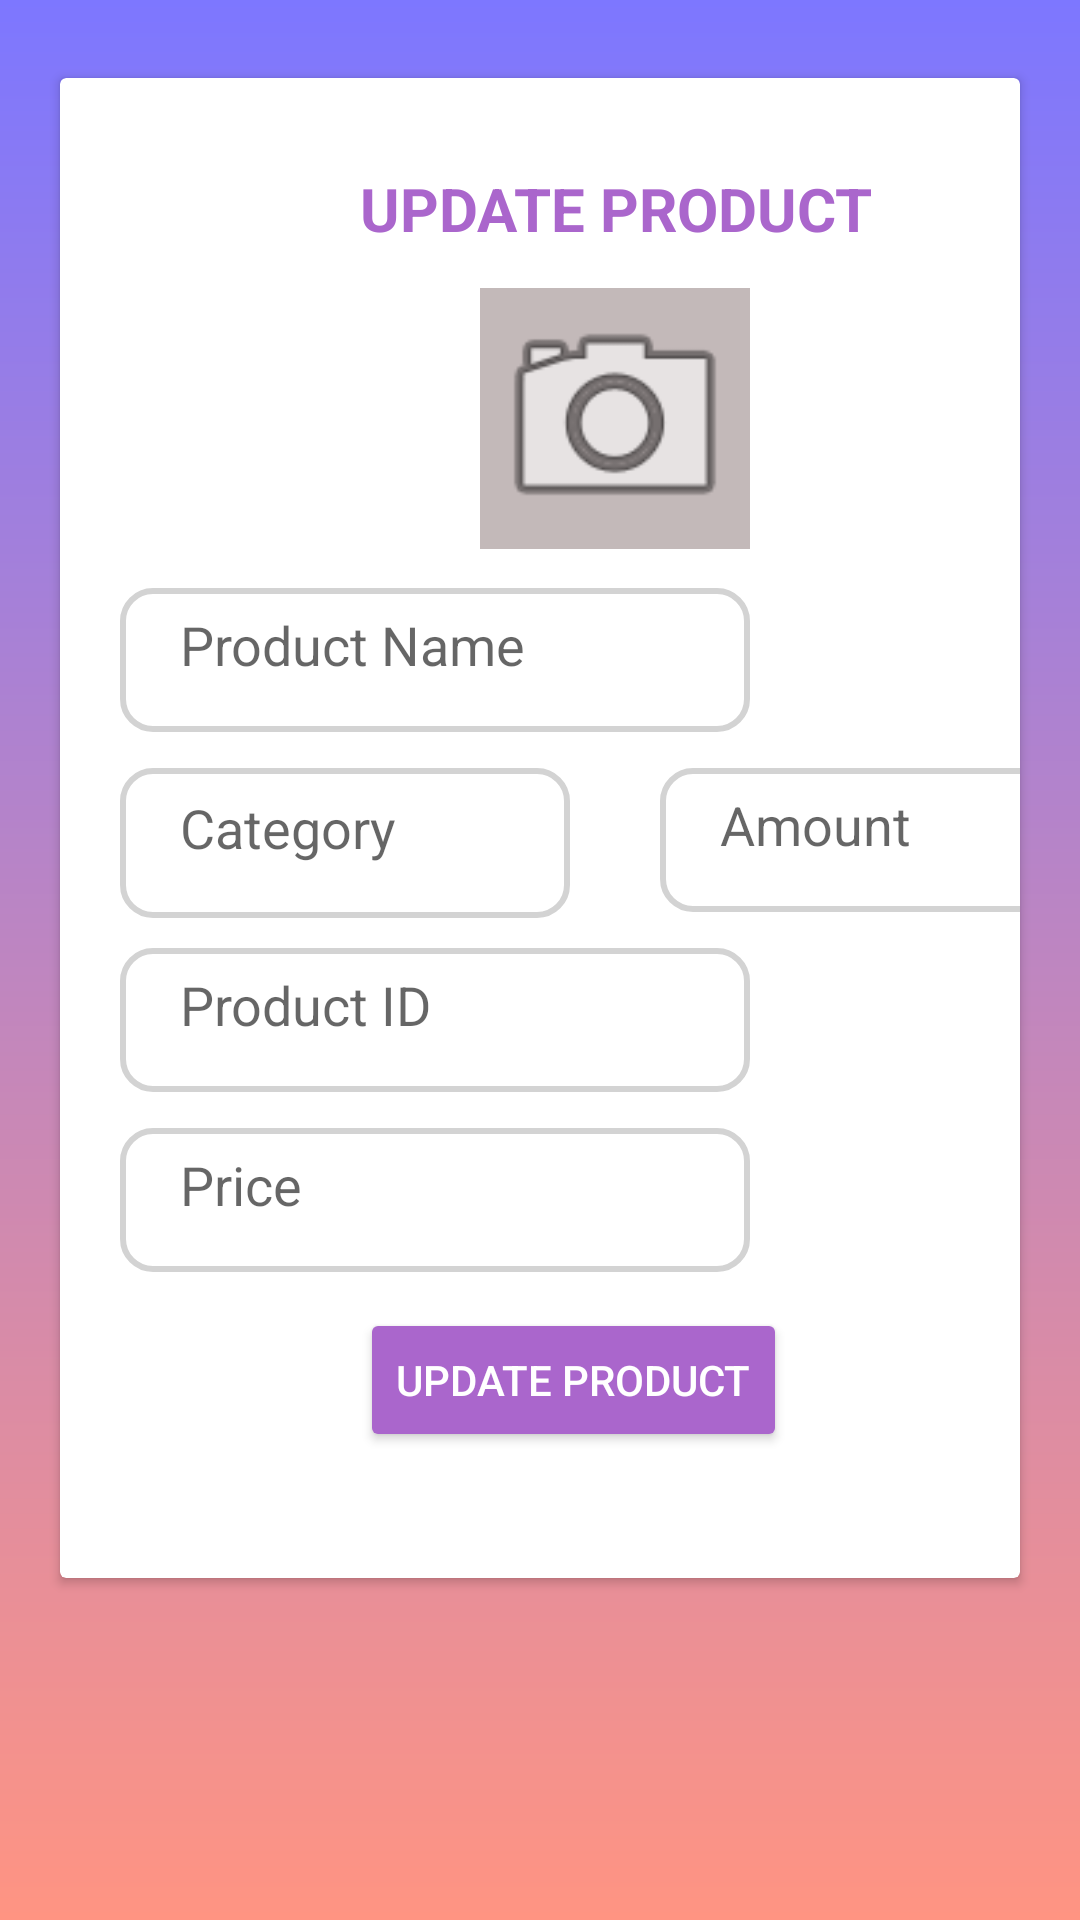

Point at icon controls on the screen. Image size 1080px×1920px, points as (x,y).
camera: (615,418)
